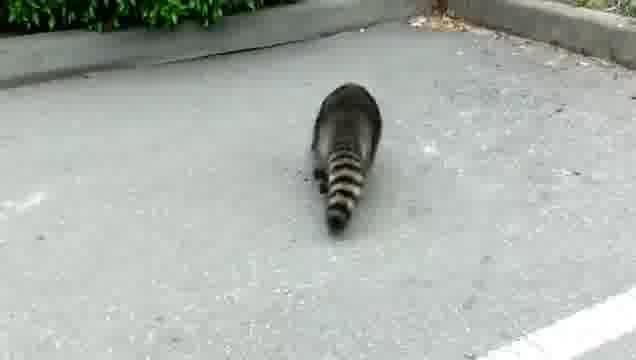raccoon: (310, 81, 384, 238)
